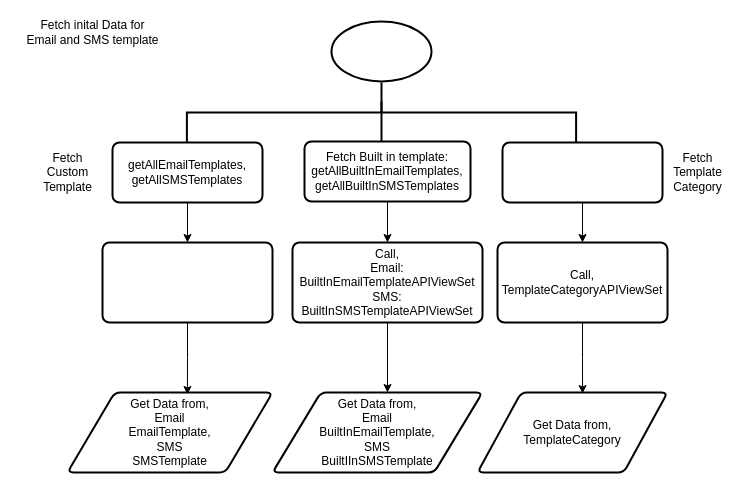
Image size: 749x490. Some labels were removed from this diagram. Here are the shapes that lost their labels. From the top down, the centre of each, then its label:
At pixel 381 51: "Start Initial Call to fetch data".
At pixel 582 172: "getAllTemplateCategory".
At pixel 187 282: "Call, Email: EmailTemplateAPIViewSet SMS: SMSTemplateAPIViewSet".
